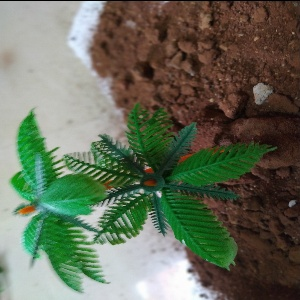plant: (12, 107, 277, 293)
